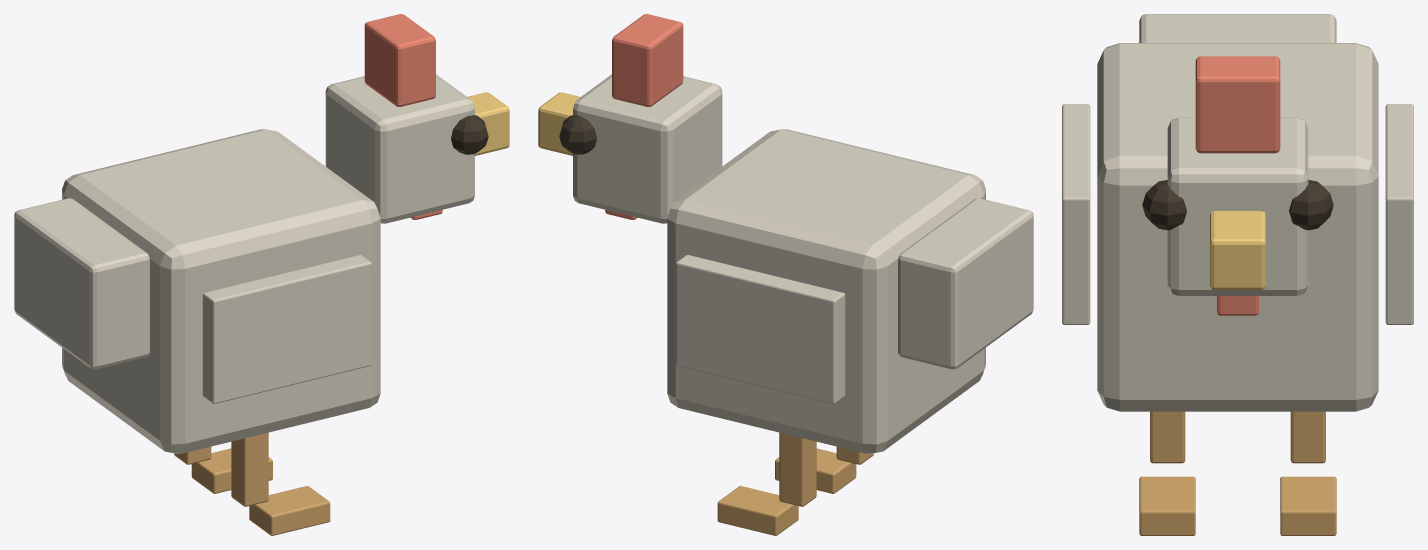
The model's file is chicken_v2.glb.
3 renders of one model, left to right at view 1: azimuth 30°, elevation 25°; view 2: azimuth 150°, elevation 25°; view 3: azimuth 270°, elevation 25°, orthographic. The views are drawn at different scales.
Visible parts, largest first — view 1: Body_Mesh, Wing_L, Tail, Head_Mesh, Comb, LegL_Foot, LegL_Shaft, Beak, LegR_Foot, Eye_L; view 2: Body_Mesh, Wing_R, Tail, Head_Mesh, Comb, LegR_Foot, LegR_Shaft, Beak, LegL_Foot, Eye_R; view 3: Body_Mesh, Head_Mesh, Comb, Wing_L, Wing_R, Tail, Beak, LegL_Foot, LegR_Foot, LegL_Shaft, LegR_Shaft, Eye_L (+2 smaller).
Part boxes in pixels (box(x1,y1,x2,y2)): Body_Mesh: box(62, 129, 380, 453); Wing_L: box(202, 255, 371, 403); Tail: box(14, 198, 149, 369); Head_Mesh: box(325, 74, 474, 223); Comb: box(364, 14, 435, 106); LegL_Foot: box(249, 486, 330, 535); LegL_Shaft: box(231, 432, 268, 506); Beak: box(467, 92, 509, 155); LegR_Foot: box(191, 448, 272, 493); Eye_L: box(451, 115, 488, 154); Body_Mesh: box(667, 129, 985, 453); Wing_R: box(676, 255, 845, 403); Tail: box(898, 198, 1033, 369); Head_Mesh: box(573, 74, 722, 223); Comb: box(612, 14, 683, 106); LegR_Foot: box(717, 486, 798, 535); LegR_Shaft: box(779, 432, 816, 506); Beak: box(538, 92, 580, 155); LegL_Foot: box(775, 448, 856, 493); Eye_R: box(559, 115, 596, 154); Body_Mesh: box(1097, 43, 1378, 411); Head_Mesh: box(1167, 117, 1308, 295); Comb: box(1195, 56, 1280, 153); Wing_L: box(1062, 104, 1090, 324); Wing_R: box(1385, 104, 1413, 324); Tail: box(1139, 14, 1336, 42); Beak: box(1210, 211, 1265, 289); LegL_Foot: box(1139, 476, 1195, 535); LegR_Foot: box(1280, 476, 1336, 535); LegL_Shaft: box(1150, 411, 1185, 463); LegR_Shaft: box(1290, 411, 1325, 463); Eye_L: box(1142, 180, 1186, 230).
Bounding box in the file's own units: 0.45 × 0.42 × 0.25.
